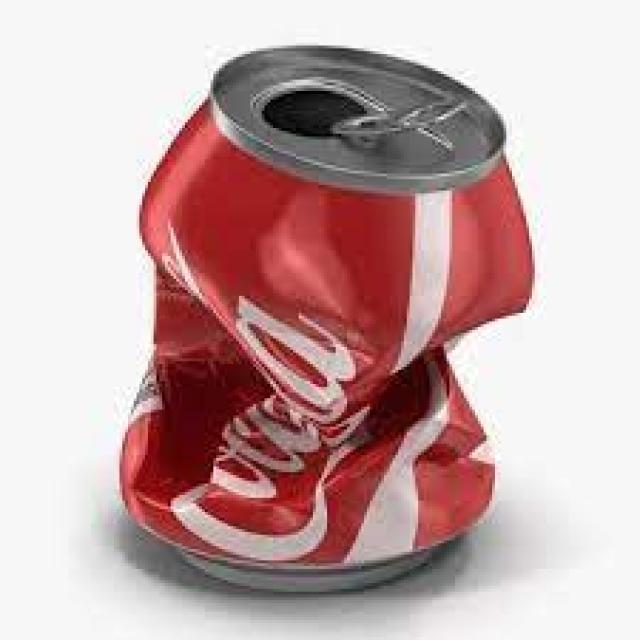aluminum_can: (122, 46, 535, 593)
